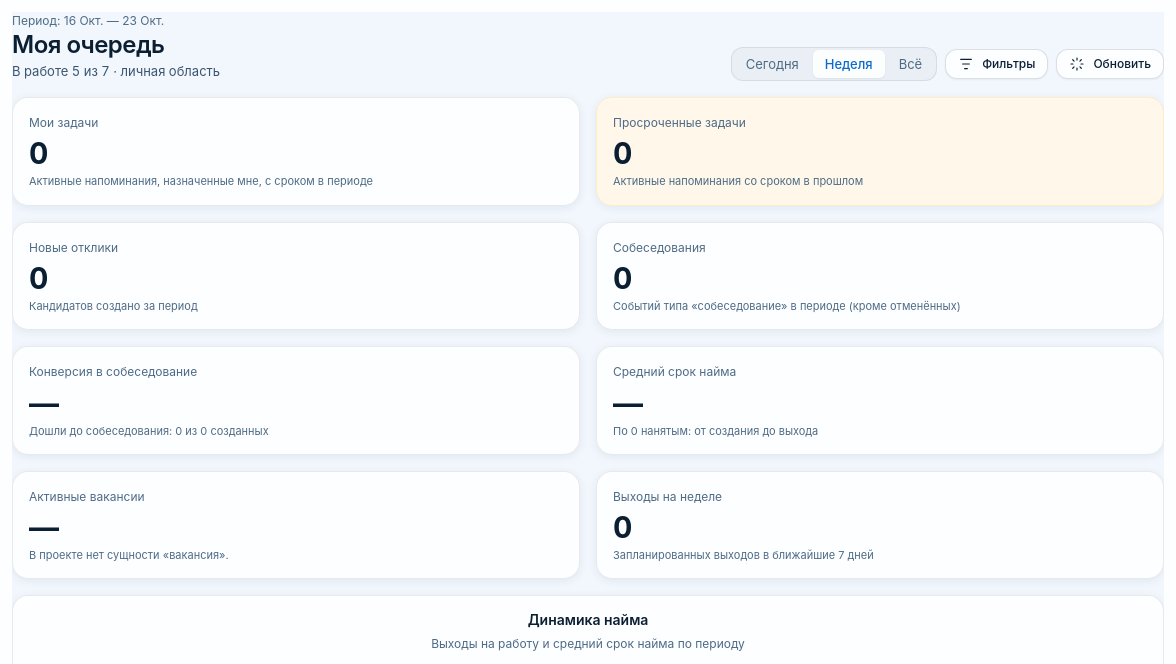
MyQueuePage › на неудачном обновлении показывает отметку устаревших данных, а не молча старые цифры
Check: the text "В работе 5 из 7 · личная область" is shown, box [12, 62, 220, 81]
Click the button "Обновить". click: click(1110, 64)
box: [1056, 49, 1164, 79]
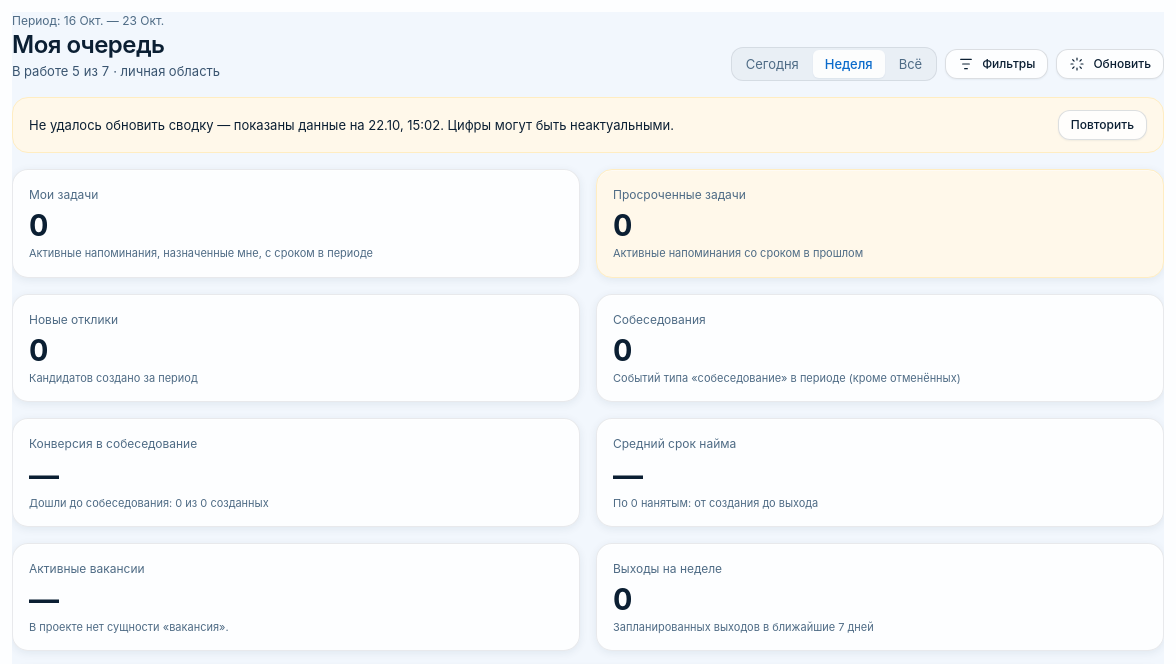
Check: the text "В работе 5 из 7 · личная область" is shown, box [12, 62, 220, 81]
Check: the text "Не удалось обновить сводку" is shown, box [29, 117, 365, 133]
Check: the button "Повторить" is shown, box [1058, 110, 1147, 140]
